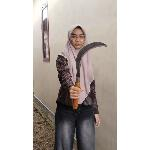Celurit: (67, 35, 113, 107)
